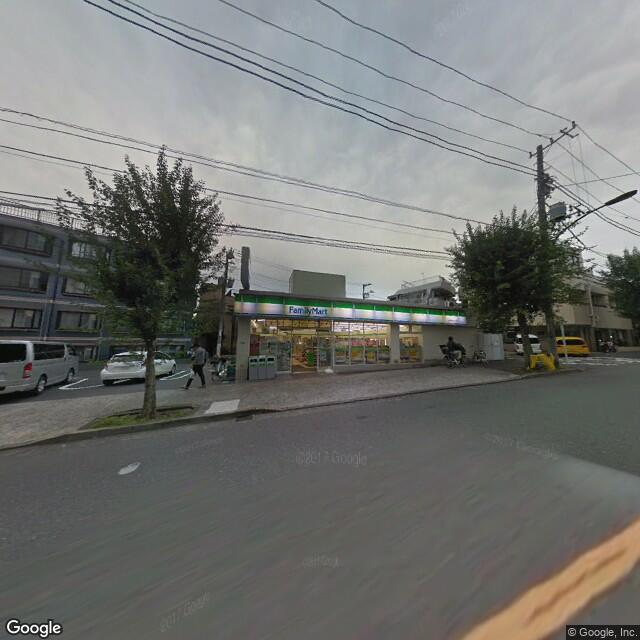family_mart: (239, 288, 470, 331), (287, 297, 328, 321)
